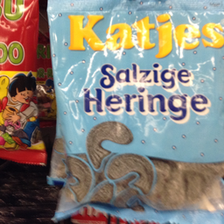candy: (47, 1, 224, 221)
